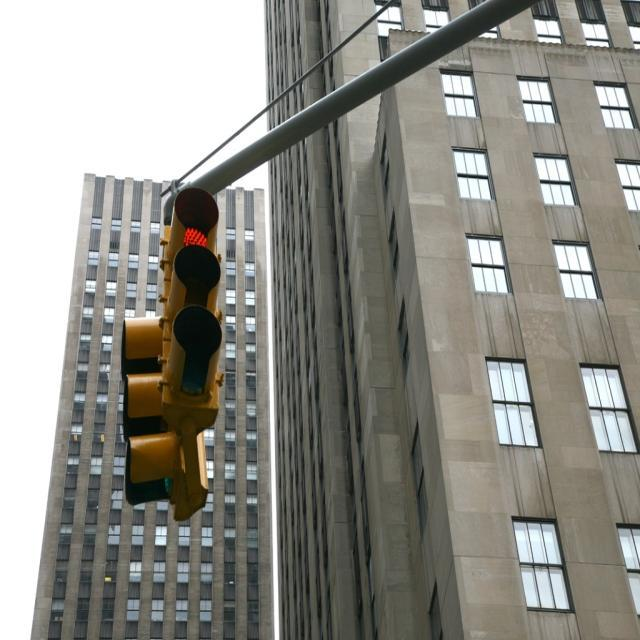off traffic light: (115, 322, 177, 505)
traffic light: (154, 203, 230, 416)
